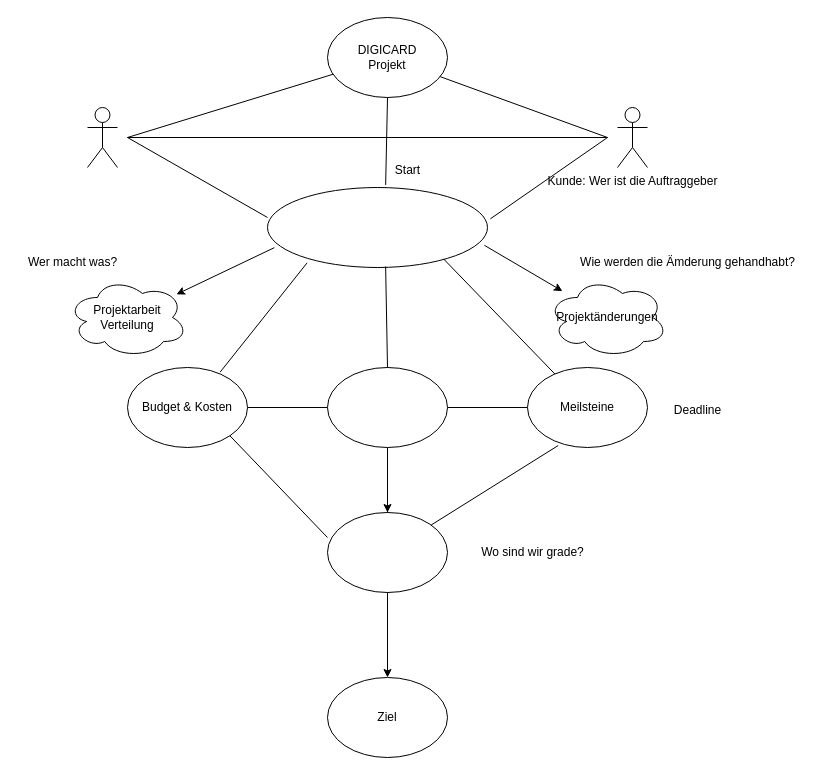
Image size: 824x775. Some labels were removed from this diagram. Here are the shapes that lost their labels. From the top down, the box of each, then its label:
(86, 106, 118, 168): Mitarbeiter: Wer ist beteiligt
(266, 186, 488, 268): Zeitplan
(326, 366, 448, 448): Komunikationen & Meeting
(326, 512, 448, 592): Projektstatus
